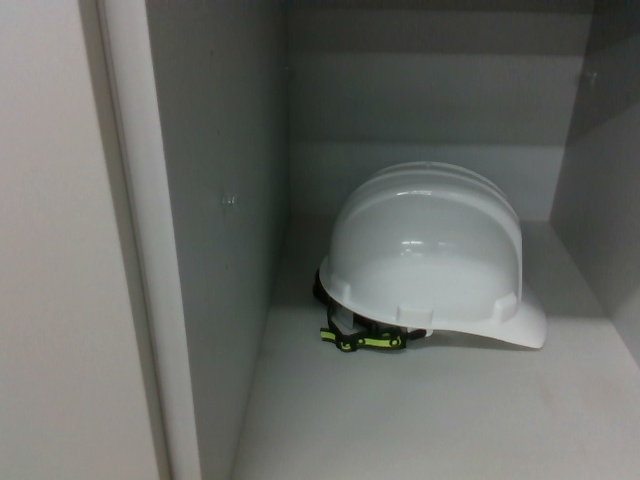helmet: (312, 157, 552, 365)
